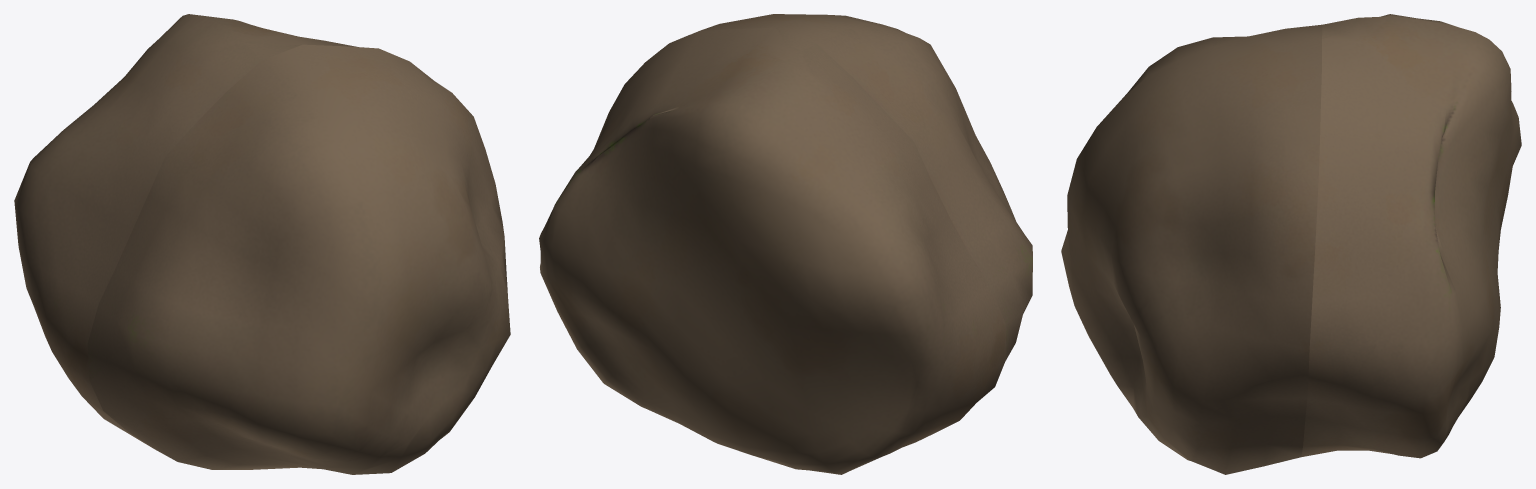
File: Rock2.fbx
The picture shows the model from 3 angles, left to right: view 1: azimuth 30°, elevation 25°; view 2: azimuth 150°, elevation 25°; view 3: azimuth 270°, elevation 25°; orthographic projection. The views are drawn at different scales.
Visible parts, largest first — view 1: Cube.003; view 2: Cube.003; view 3: Cube.003.
Part boxes in pixels (<box>): Cube.003: <box>14,14,510,474</box>; Cube.003: <box>539,14,1032,474</box>; Cube.003: <box>1061,14,1521,474</box>.
Size of the model in its own units: 258 by 228 by 236.
Materials: 1 (1 with a texture image).
